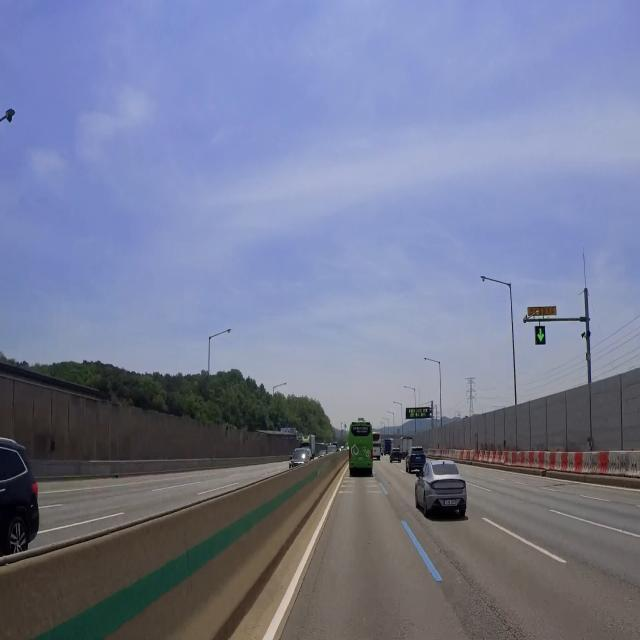car: (442, 494, 460, 511), (355, 452, 368, 468), (413, 452, 425, 465)
